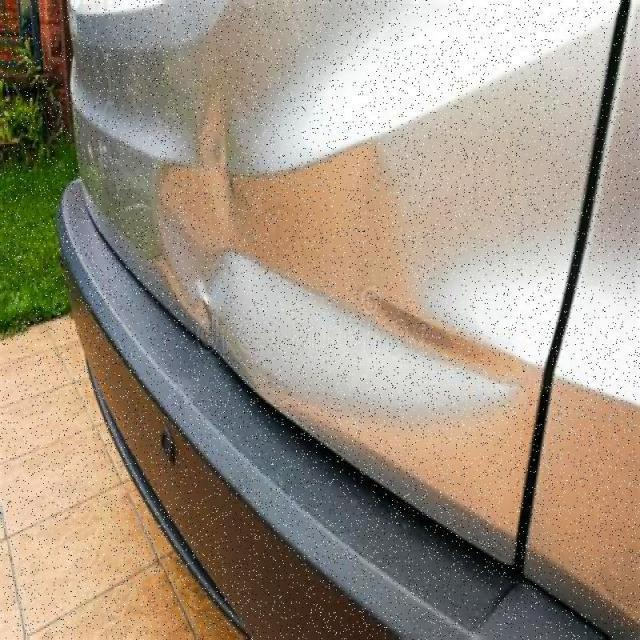dent: (159, 83, 521, 427)
